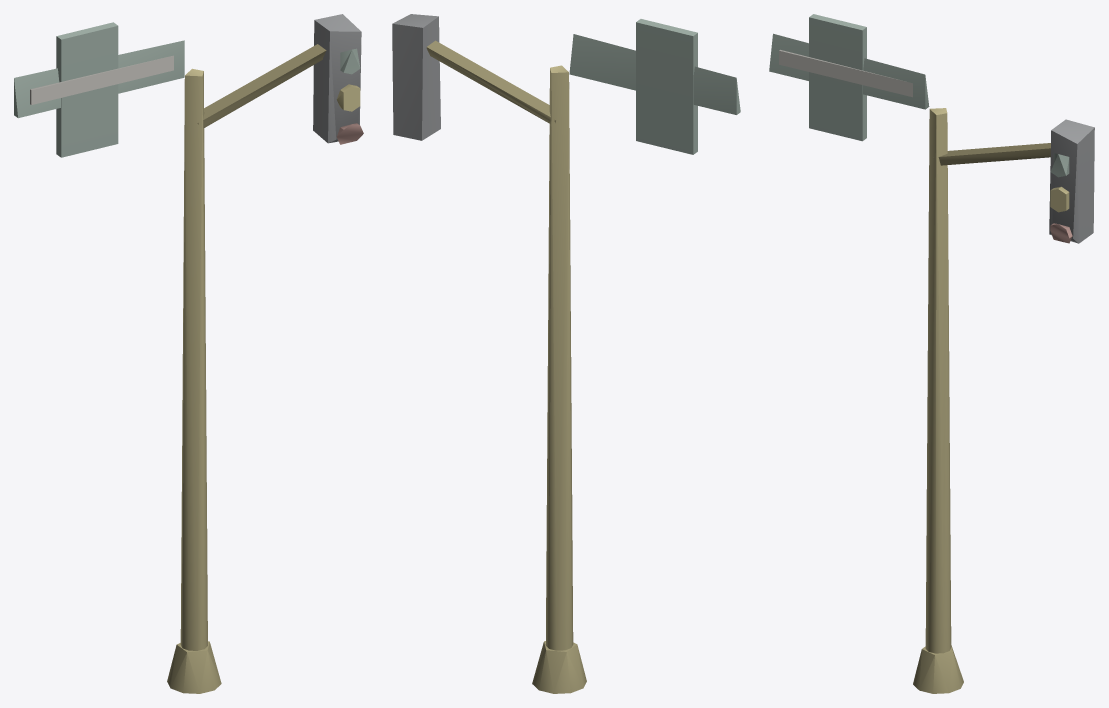
Rendered from light.lod1.glb.
The picture shows the model from 3 angles, left to right: view 1: azimuth 30°, elevation 25°; view 2: azimuth 150°, elevation 25°; view 3: azimuth 330°, elevation 25°; orthographic projection. The views are drawn at different scales.
Size of the model in its own units: 2.83 by 5.45 by 0.4102.
